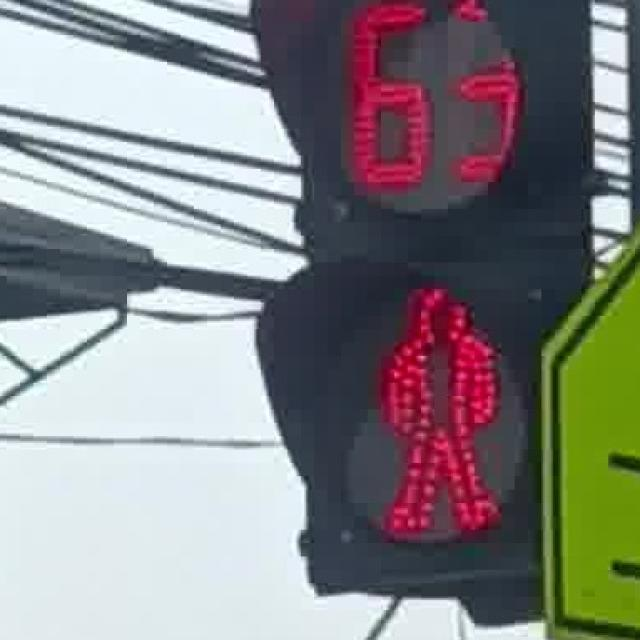red-crossing: (359, 271, 516, 554)
